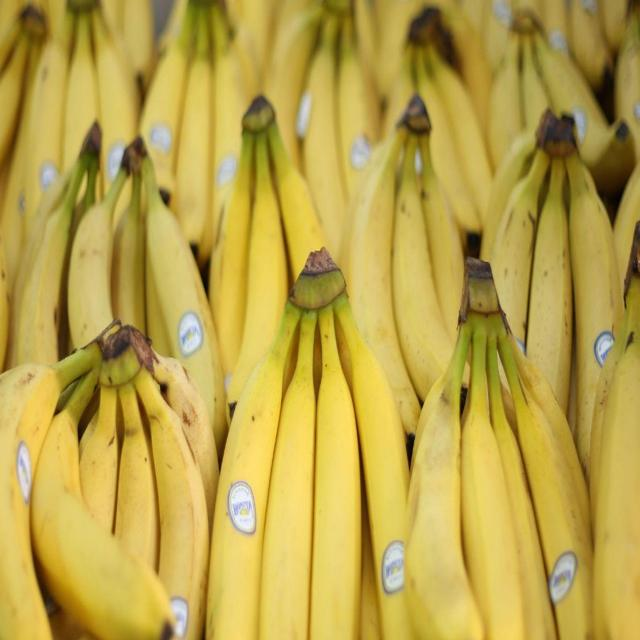banana: (200, 234, 415, 640), (401, 247, 598, 640), (479, 98, 625, 455), (71, 307, 224, 640), (69, 138, 231, 452), (346, 90, 479, 436), (0, 301, 133, 640), (205, 89, 336, 404)
